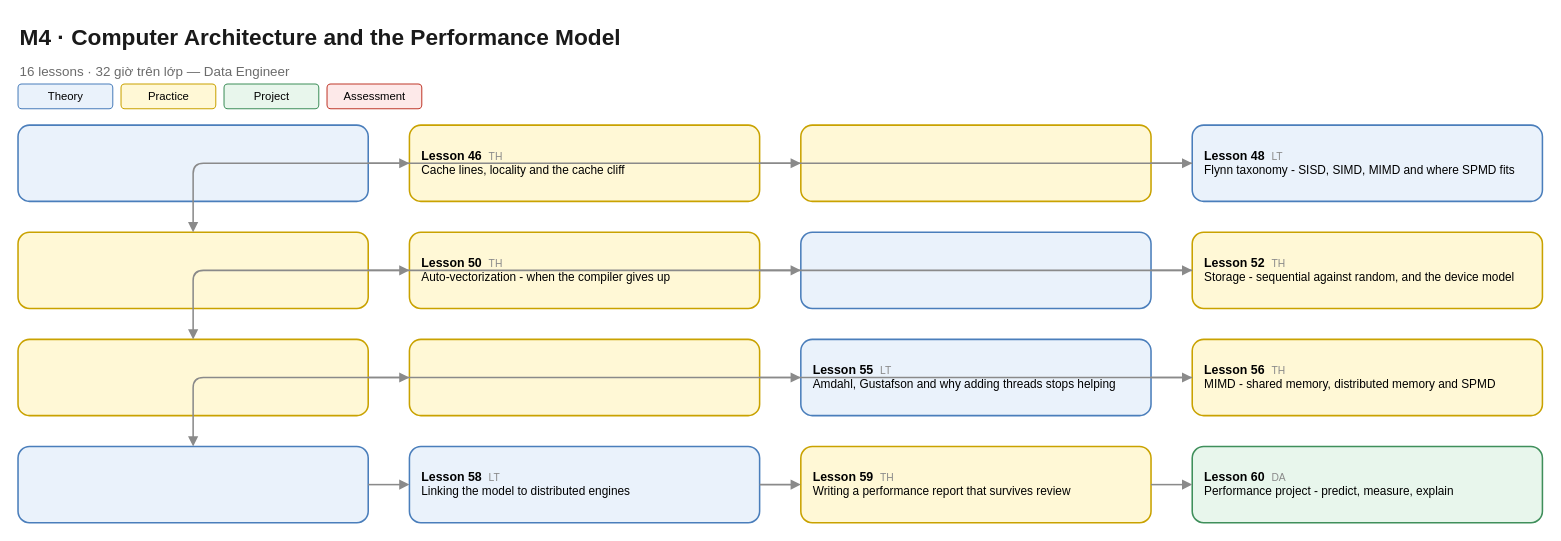
Image size: 1561x541. Some labels were removed from this diagram. Here are the shapes that lost their labels. From the top down, the centre of each, then its label:
At pixel 193 163: "Lesson 45 LT The memory hierarchy and the cost model".
At pixel 975 163: "Lesson 47 TH Row-major against column-major layout".
At pixel 193 270: "Lesson 49 TH SIMD from lane to operator - width, mask, tail and gather".
At pixel 975 270: "Lesson 51 LT Virtual memory, page faults and mmap".
At pixel 193 377: "Lesson 53 TH Buffering, page cache and fsync".
At pixel 584 377: "Lesson 54 TH The kernel boundary - syscalls and context switches".
At pixel 193 484: "Lesson 57 LT Linking the model to databases".
